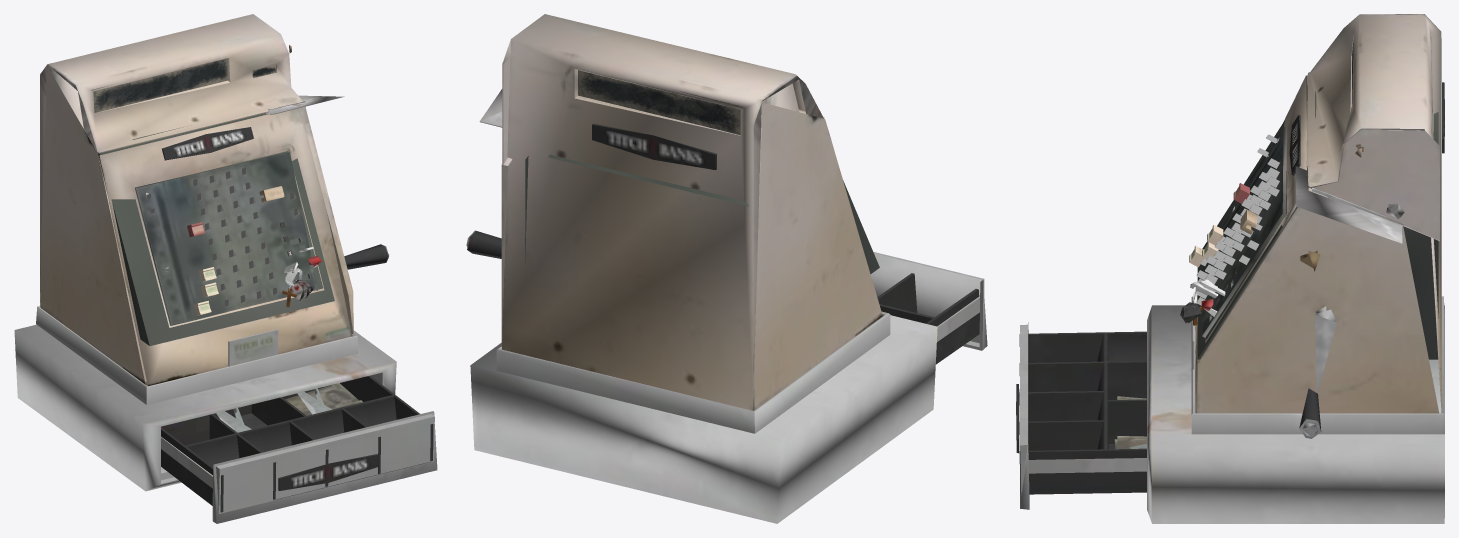
File: CashRegister_01.glb
3 views of the same model, side by side, from view 1: azimuth 30°, elevation 25°; view 2: azimuth 150°, elevation 25°; view 3: azimuth 270°, elevation 25° (orthographic). The views are drawn at different scales.
Parts seen in each view (by area): view 1: CashRegister_01_body, CashRegister_011_drawer; view 2: CashRegister_01_body, CashRegister_011_drawer; view 3: CashRegister_01_body, CashRegister_011_drawer.
Boxes of the visible parts, x1=… form: CashRegister_01_body: x1=14, y1=14, x2=396, y2=491; CashRegister_011_drawer: x1=161, y1=375, x2=437, y2=523; CashRegister_01_body: x1=466, y1=14, x2=937, y2=523; CashRegister_011_drawer: x1=870, y1=252, x2=987, y2=364; CashRegister_01_body: x1=1147, y1=14, x2=1444, y2=523; CashRegister_011_drawer: x1=1016, y1=322, x2=1146, y2=509.
Bounding box in the file's own units: 0.5941 × 0.6197 × 0.617.
Materials: 2 (2 with a texture image).
